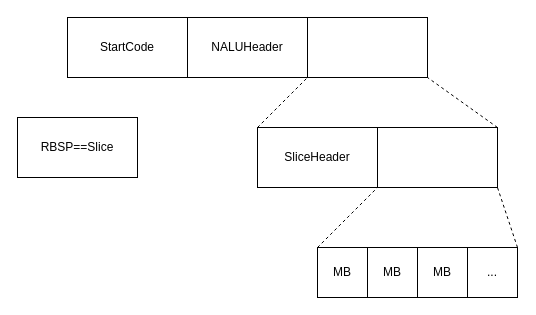
Image size: 536x315. Some labels were removed from this diagram. Each missing label, with the centre of its shape:
"RBSP" goes at (x=367, y=47).
"SliceData" goes at (x=437, y=157).
